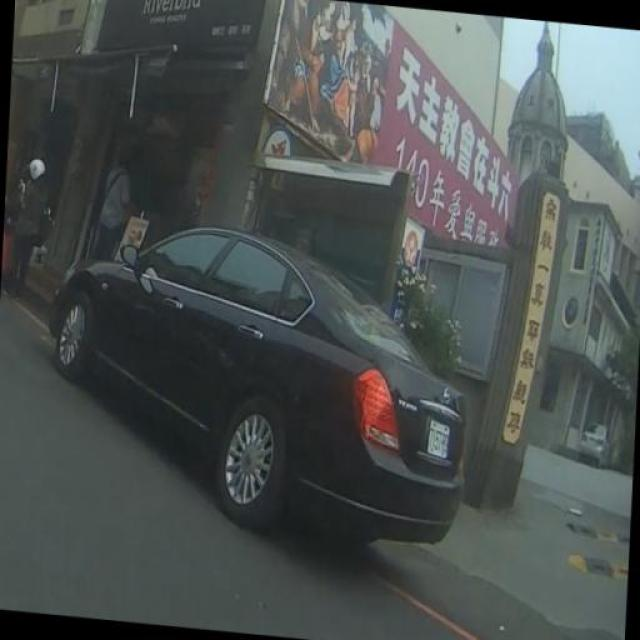Legalparking: (26, 191, 533, 564)
